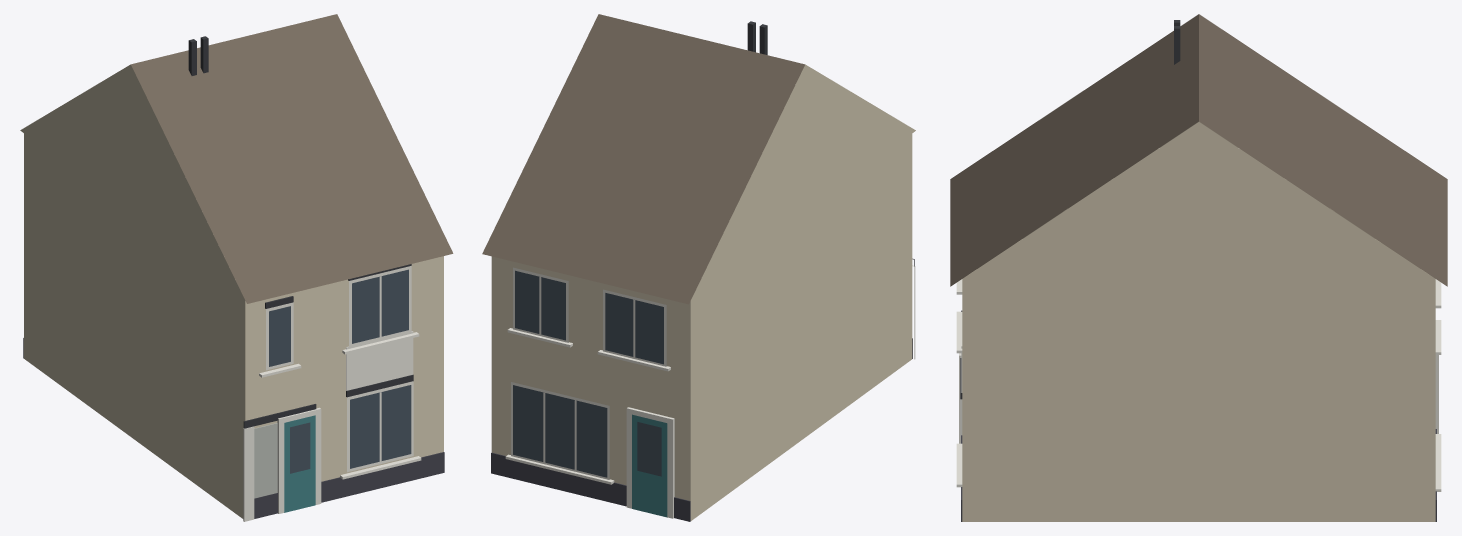
Rendered from nw-ee-buff-row__buff__2__gable__long__solid__mirror.glb.
3 views of the same model, side by side, from view 1: azimuth 30°, elevation 25°; view 2: azimuth 150°, elevation 25°; view 3: azimuth 270°, elevation 25° (orthographic). The views are drawn at different scales.
Visible parts, largest first — view 1: nw-ee-buff-row__buff__2__gable__long__solid__mirror; view 2: nw-ee-buff-row__buff__2__gable__long__solid__mirror; view 3: nw-ee-buff-row__buff__2__gable__long__solid__mirror.
Part boxes in pixels (x1=…): nw-ee-buff-row__buff__2__gable__long__solid__mirror: x1=20, y1=14, x2=453, y2=521; nw-ee-buff-row__buff__2__gable__long__solid__mirror: x1=482, y1=14, x2=915, y2=521; nw-ee-buff-row__buff__2__gable__long__solid__mirror: x1=950, y1=14, x2=1447, y2=521.
Bounding box in the file's own units: 5.28 × 9.64 × 10.3.
